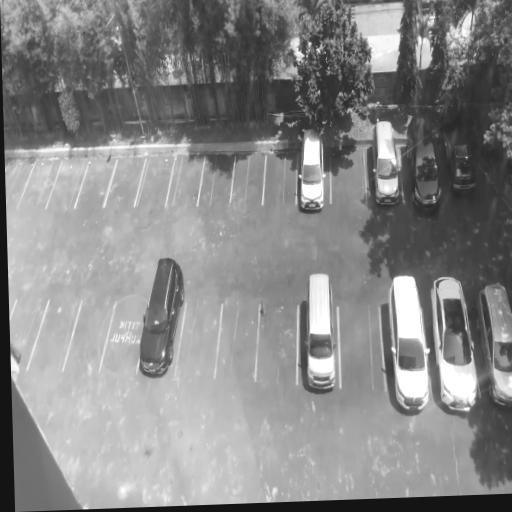Car: (425, 273, 484, 417), (384, 274, 435, 416), (136, 254, 186, 381), (472, 275, 512, 414), (402, 114, 446, 214), (304, 269, 337, 393), (438, 113, 481, 196), (368, 121, 402, 208), (297, 125, 326, 212)
Space Available: (337, 304, 384, 393), (27, 300, 81, 371), (63, 300, 115, 373), (213, 305, 260, 385), (174, 302, 221, 381), (254, 305, 297, 384), (99, 302, 146, 372), (10, 299, 49, 369), (73, 156, 117, 211), (17, 158, 61, 213), (46, 157, 89, 212), (330, 144, 368, 206), (102, 156, 145, 209), (134, 152, 176, 205), (197, 152, 235, 204), (165, 155, 204, 205), (230, 154, 268, 205), (262, 150, 297, 204), (5, 158, 34, 212)
